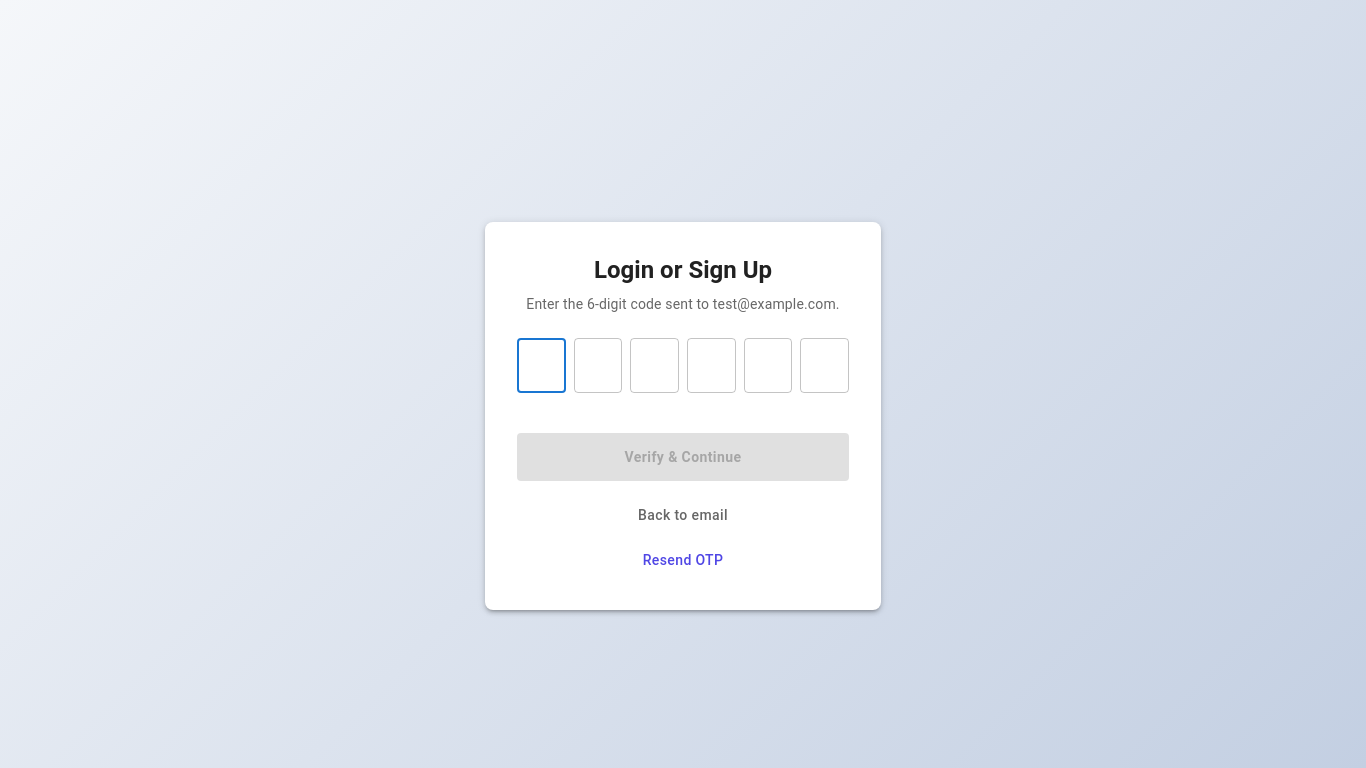
Test: OtpPage › should enable submit button when all 6 digits are entered
The image size is (1366, 768).
In the 1st field: (541, 365) x1=517 y1=338 x2=566 y2=393, type "1"
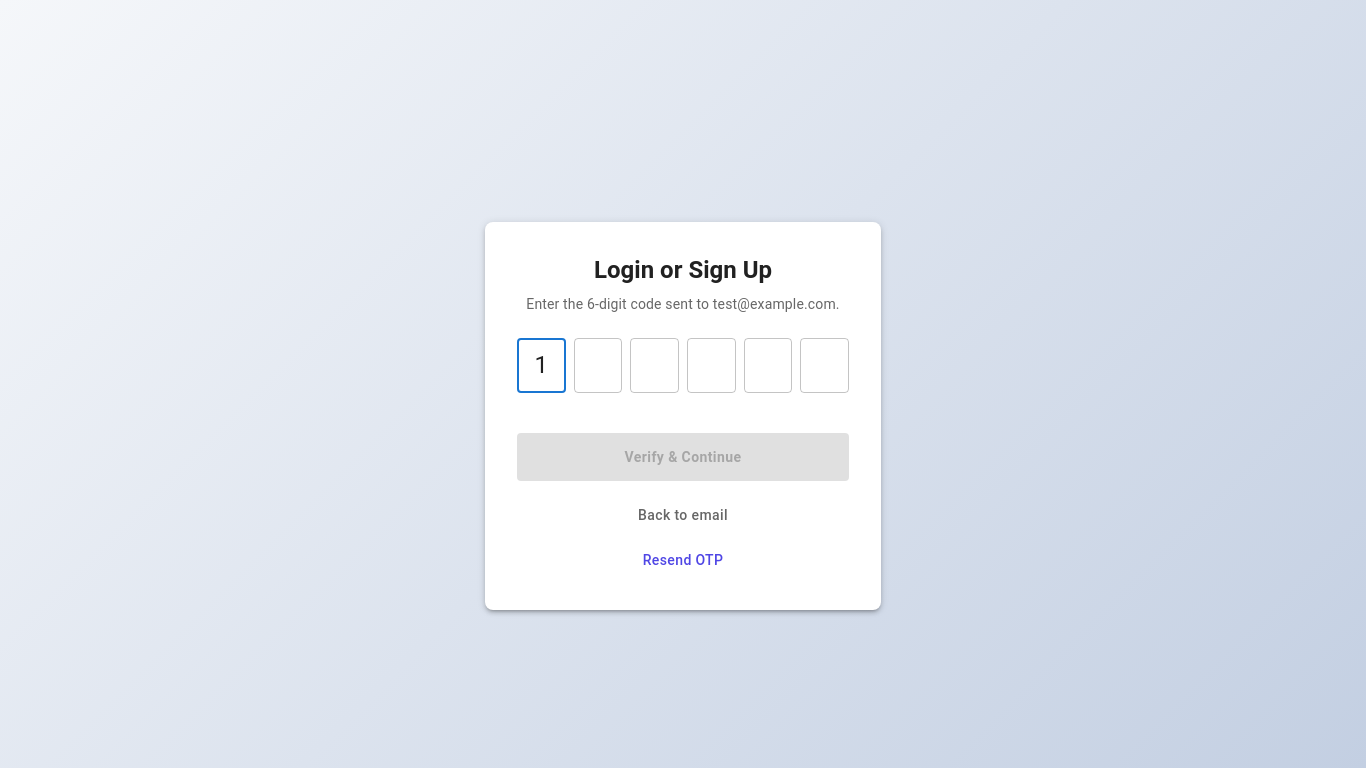
In the 2nd field: (598, 365) x1=574 y1=338 x2=622 y2=393, type "2"
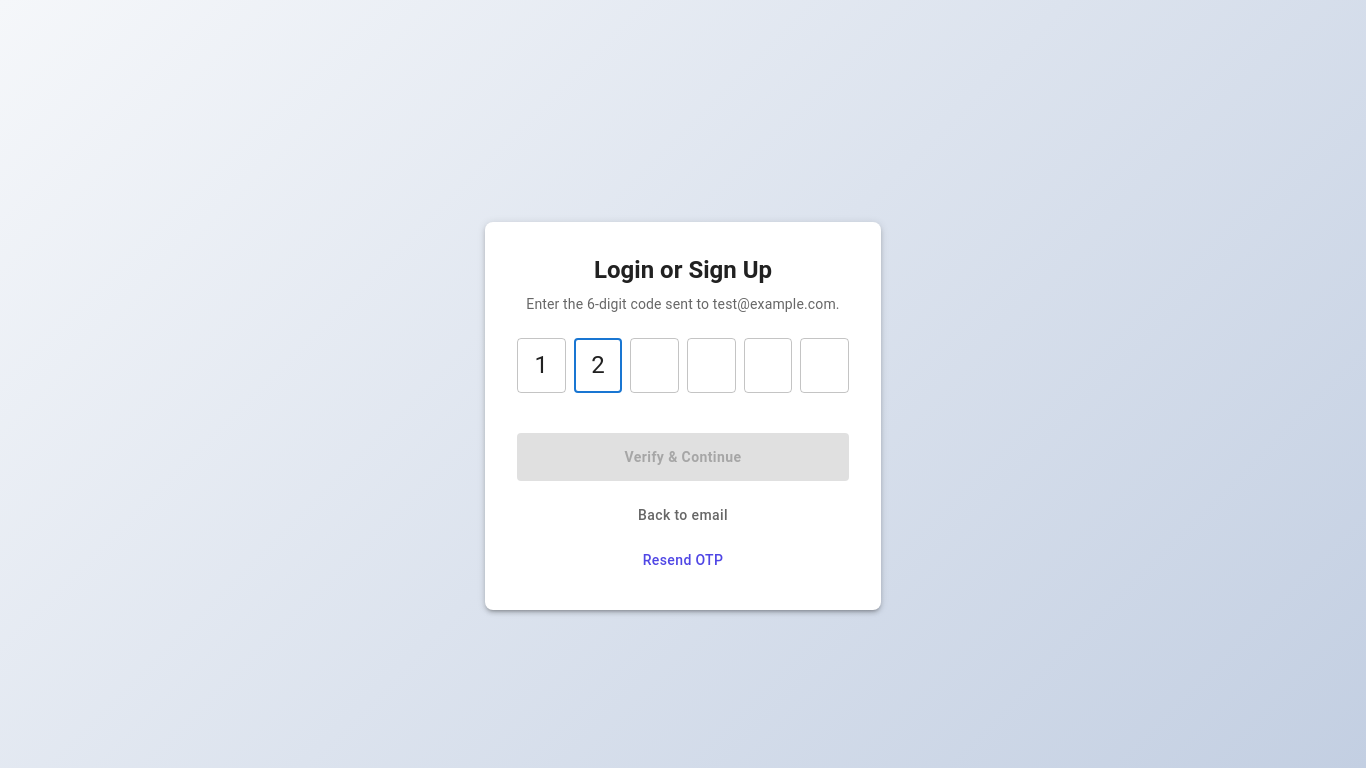
In the 3rd field: (655, 365) x1=630 y1=338 x2=679 y2=393, type "3"
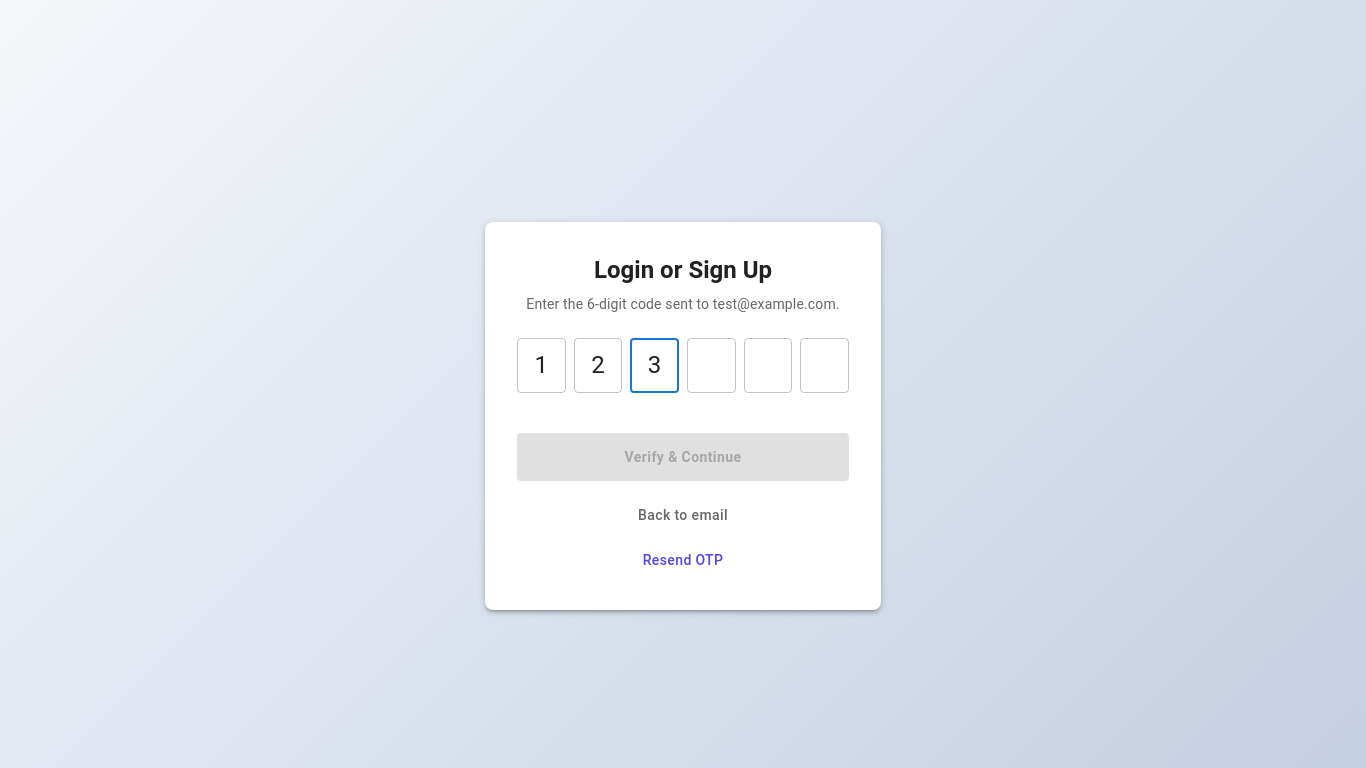
In the 4th field: (711, 365) x1=687 y1=338 x2=736 y2=393, type "4"
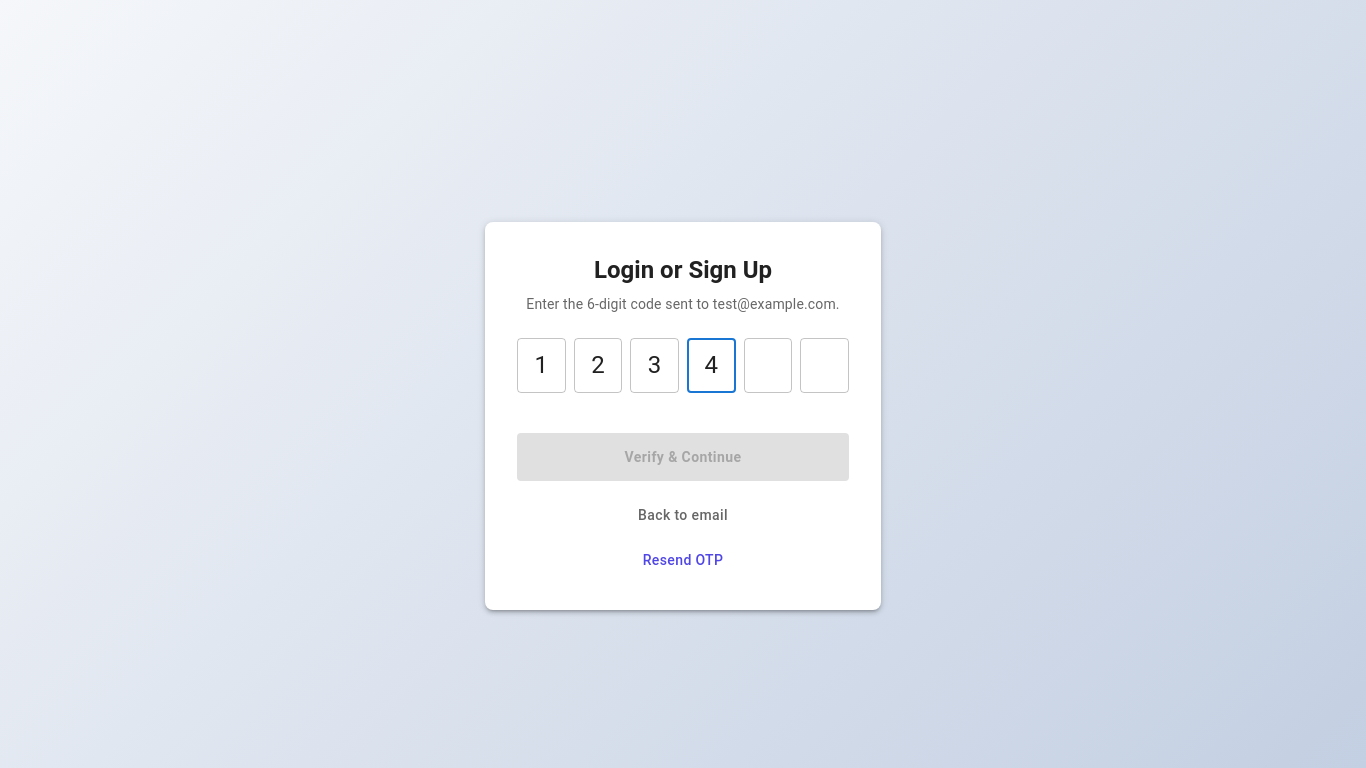
In the 5th field: (768, 365) x1=744 y1=338 x2=792 y2=393, type "5"
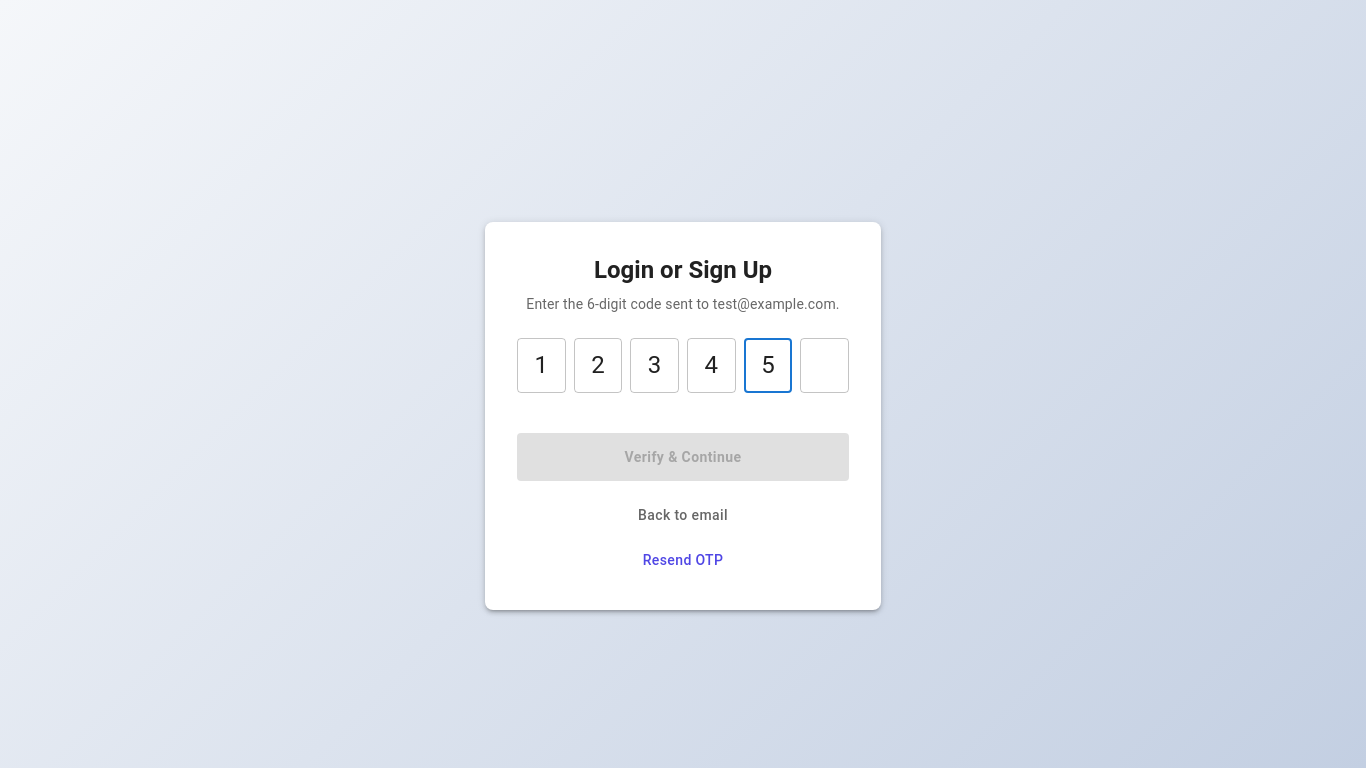
In the 6th field: (825, 365) x1=800 y1=338 x2=849 y2=393, type "6"
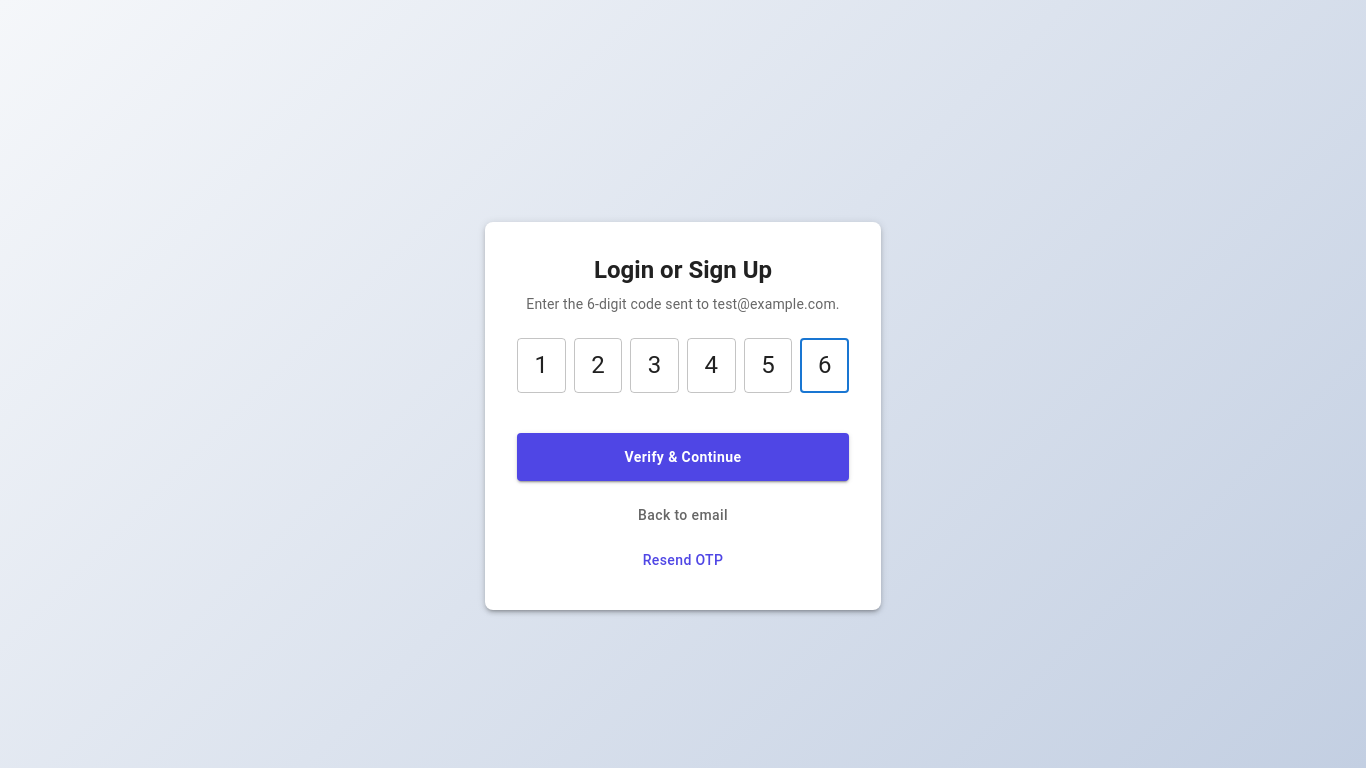
Result: the button "Verify & Continue" is enabled at x1=517 y1=433 x2=849 y2=481
